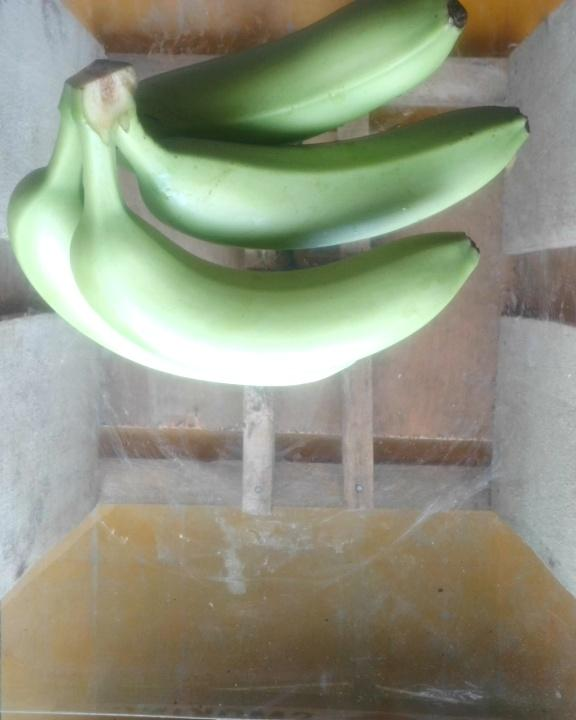SPOT: (4, 1, 536, 404)
